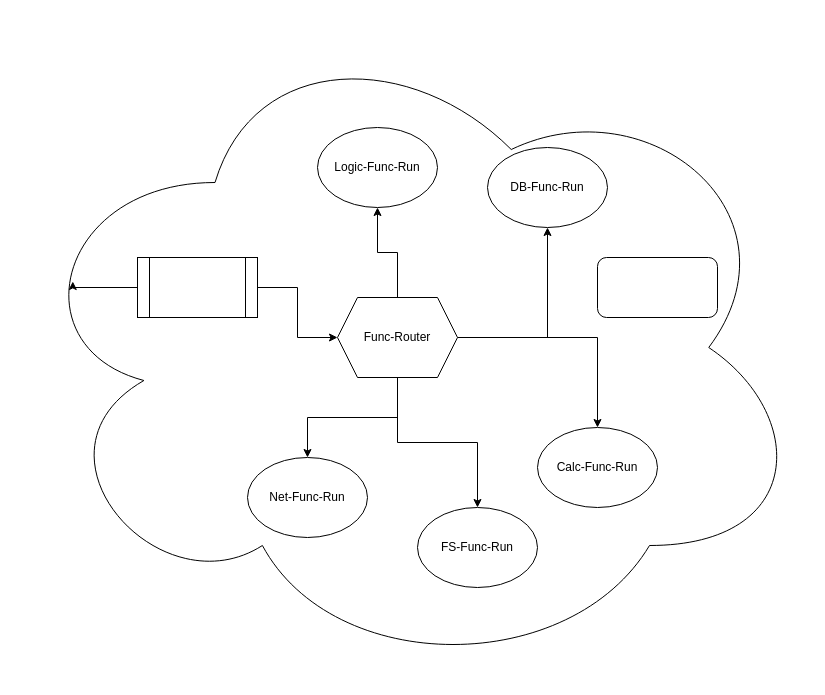
This 825x695 diagram has some shape labels left out. Here are the shapes that lost their labels. From the top down, the centre of each, then its label:
At (x=197, y=287): "Internal and external exchange".
At (x=657, y=287): "Func-Conf-State-Center".
